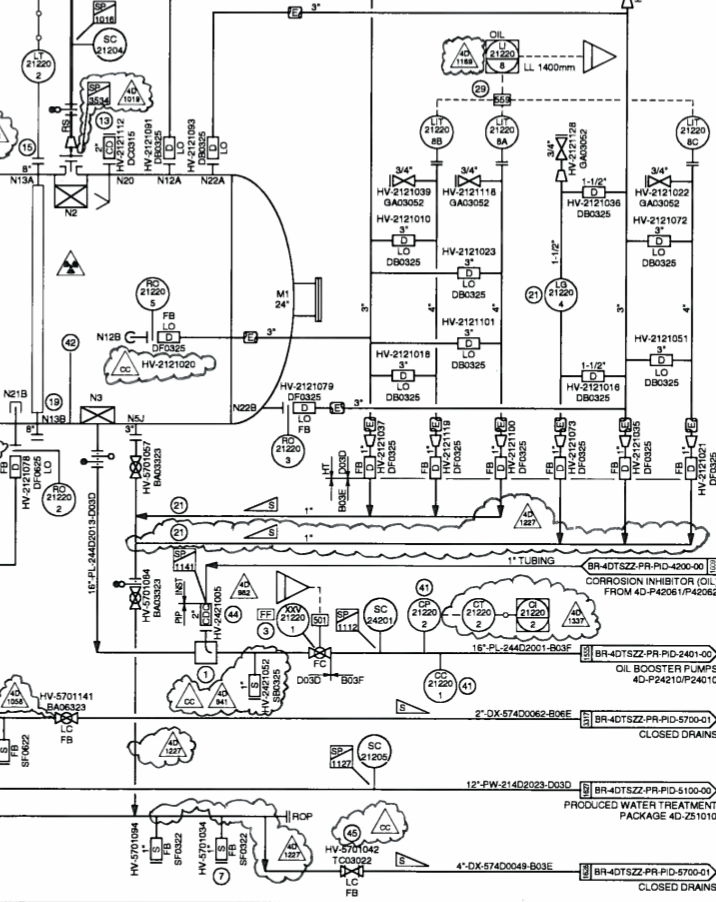Instrument: (539, 269, 594, 318), (358, 590, 406, 642), (668, 106, 715, 157), (413, 108, 459, 155), (38, 477, 81, 525), (404, 595, 446, 644), (264, 428, 310, 472), (90, 26, 139, 66), (131, 268, 172, 314), (481, 109, 522, 153), (420, 665, 462, 707), (356, 729, 394, 775), (460, 596, 497, 640), (17, 47, 57, 87)
Instrument-square: (478, 36, 523, 79), (513, 592, 553, 638)
